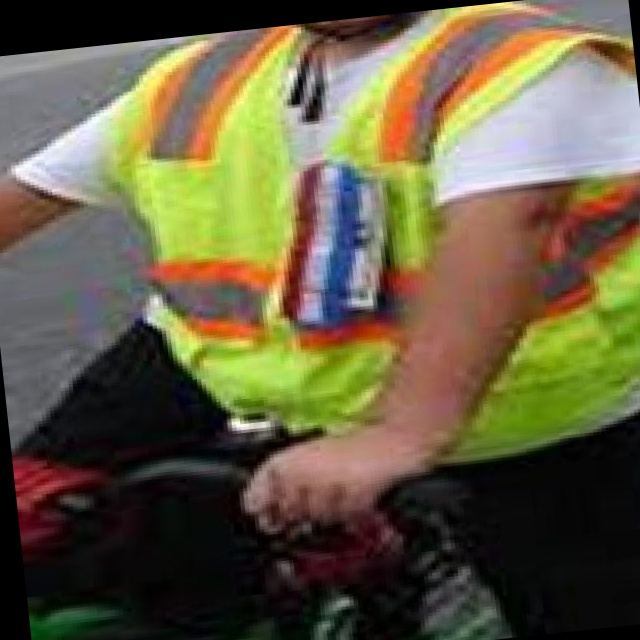Con_Chaleco: (134, 0, 640, 490)
